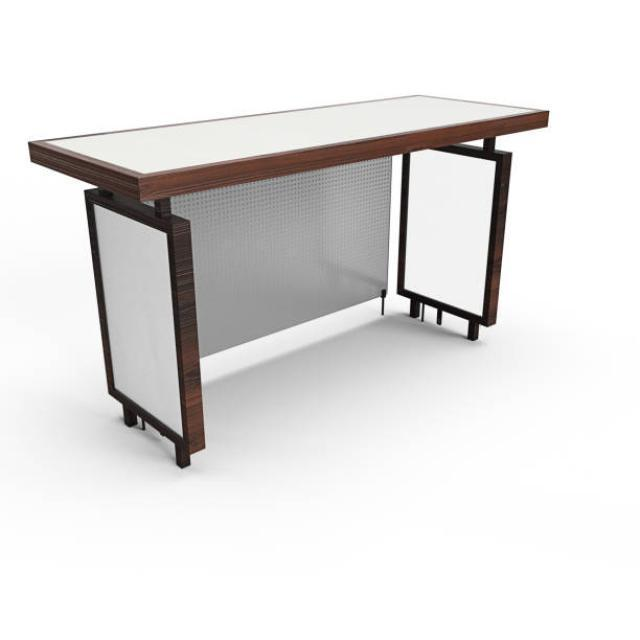table: (27, 92, 550, 467)
